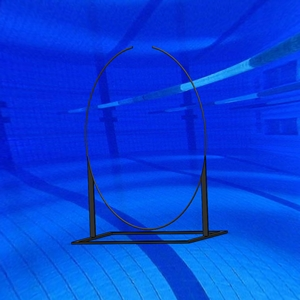circle: (72, 45, 229, 244)
